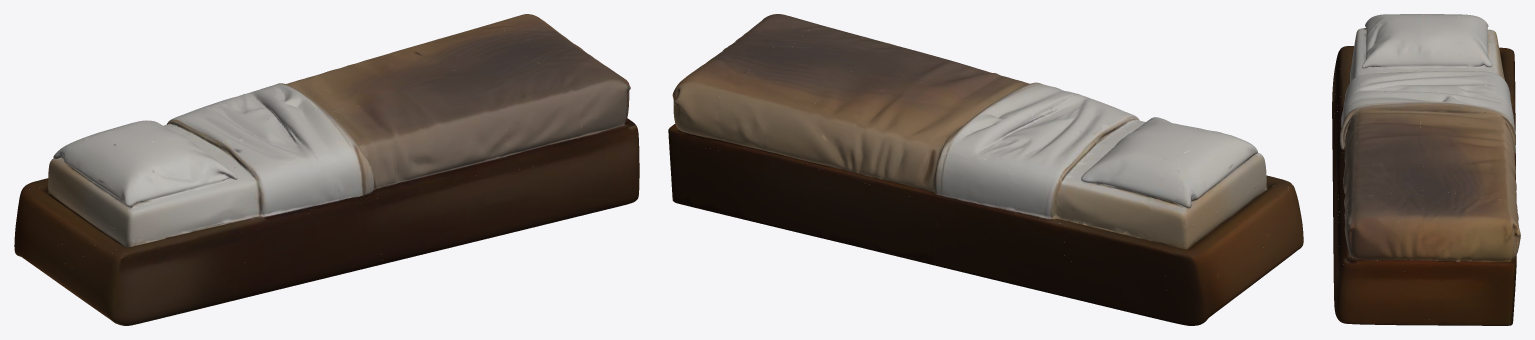
Rendered from gen_bed_single_tripo.web.glb.
3 views of the same model, side by side, from view 1: azimuth 30°, elevation 25°; view 2: azimuth 150°, elevation 25°; view 3: azimuth 270°, elevation 25° (orthographic). The views are drawn at different scales.
Visible parts, largest first — view 1: tripo_node_42f81159-67df-410a-b54c-ebc9b67f5d49; view 2: tripo_node_42f81159-67df-410a-b54c-ebc9b67f5d49; view 3: tripo_node_42f81159-67df-410a-b54c-ebc9b67f5d49.
Boxes of the visible parts, left/top/right/bottom form: tripo_node_42f81159-67df-410a-b54c-ebc9b67f5d49: left=14, top=14, right=639, bottom=325; tripo_node_42f81159-67df-410a-b54c-ebc9b67f5d49: left=668, top=14, right=1303, bottom=325; tripo_node_42f81159-67df-410a-b54c-ebc9b67f5d49: left=1332, top=14, right=1520, bottom=325.
Bounding box in the file's own units: 2.06 × 0.4999 × 0.7328.
1 material, 1 textured.
